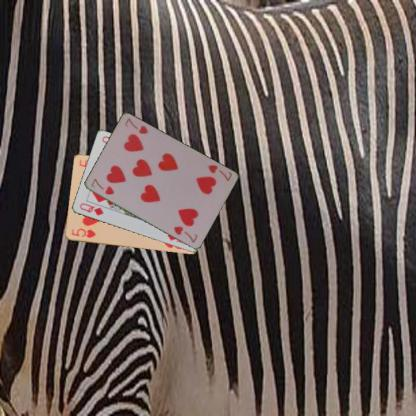5h: (69, 225, 97, 239)
7h: (205, 161, 233, 182), (88, 176, 115, 196)
Qd: (77, 201, 104, 217)
